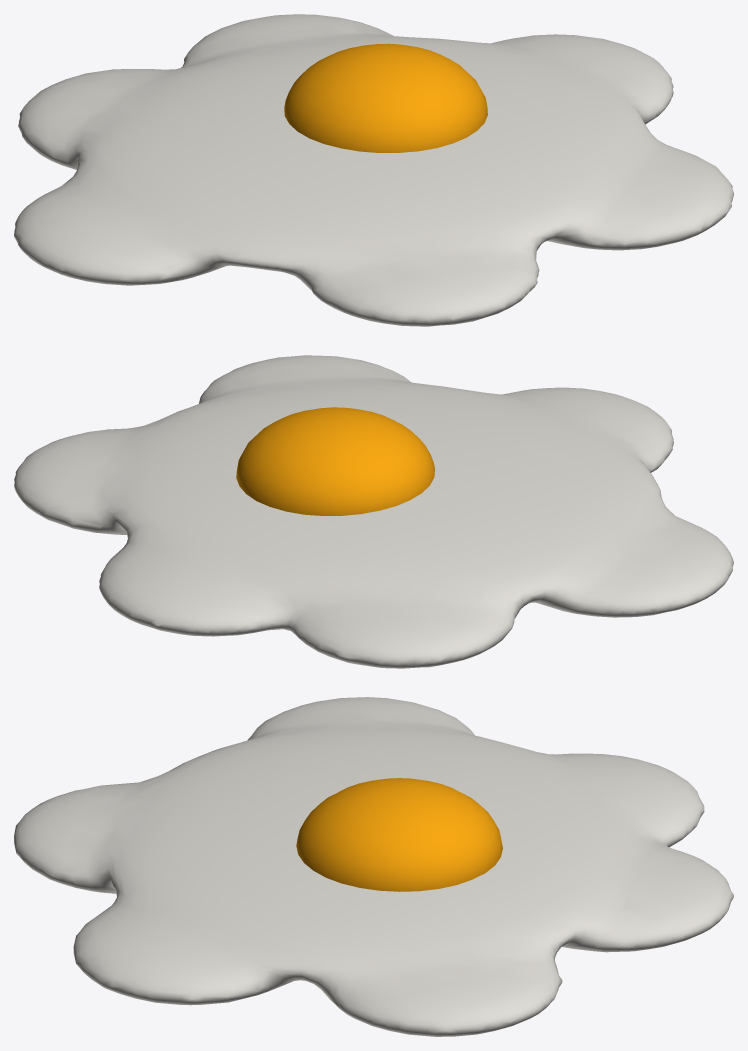
File: spiegelei.glb
3 renders of one model, top to bottom at view 1: azimuth 30°, elevation 25°; view 2: azimuth 150°, elevation 25°; view 3: azimuth 270°, elevation 25°, orthographic. The views are drawn at different scales.
Parts seen in each view (by area): view 1: p0; view 2: p0; view 3: p0.
Part boxes in pixels (box(x1,y1,x2,y2)): p0: box(14, 14, 733, 326); p0: box(14, 355, 733, 668); p0: box(14, 697, 733, 1036).
Size of the model in its own units: 0.0563 by 0.00928 by 0.052.
